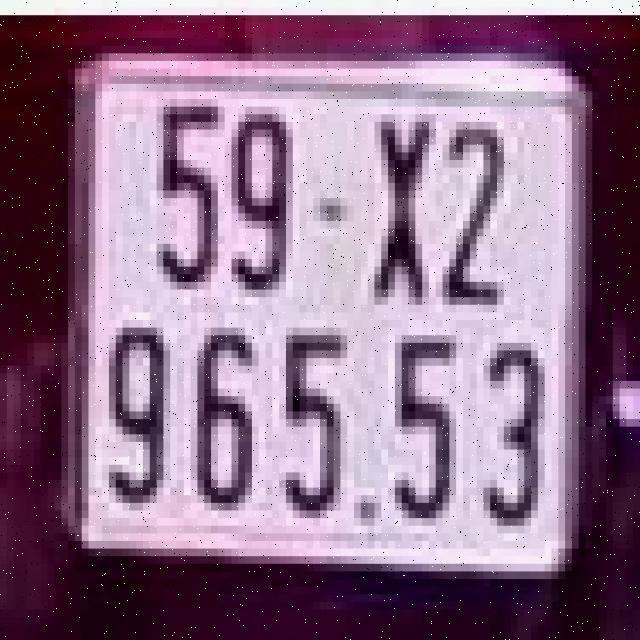2: (442, 111, 518, 316)
3: (476, 336, 552, 534)
5: (272, 324, 361, 522), (381, 332, 463, 530), (150, 99, 224, 297)
6: (187, 308, 269, 522)
9: (228, 95, 303, 309), (99, 312, 180, 510)
X: (364, 110, 439, 301)
